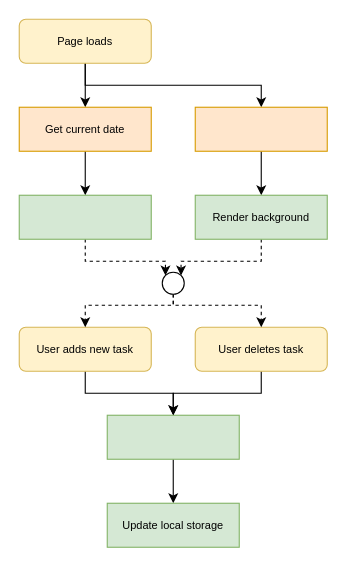
This 347x567 diagram has some shape labels left out. The centre of each missing label's shape, as x and y in pixels:
Get current time: the point at 260,128
Render date on tasks list: the point at 84,216
Render updated tasks list: the point at 172,436
